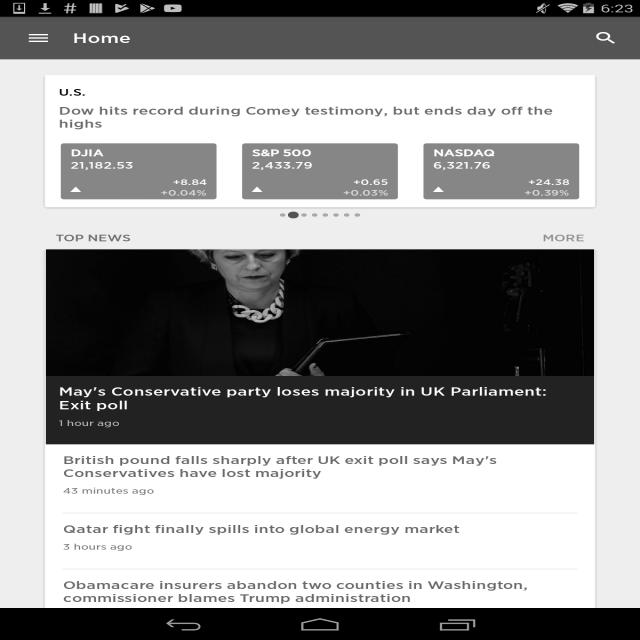ImageButton: (9, 19, 68, 57)
ImageView: (46, 249, 594, 376), (277, 212, 288, 218), (288, 212, 299, 218), (309, 212, 320, 218), (320, 212, 331, 218), (341, 212, 352, 218), (352, 212, 363, 218), (299, 212, 309, 218), (331, 212, 341, 218), (70, 187, 81, 192), (433, 187, 444, 192), (252, 187, 262, 192)
TextView: (59, 384, 581, 412), (63, 453, 577, 480), (63, 578, 577, 605), (59, 104, 581, 130), (63, 522, 460, 536), (55, 232, 320, 244), (320, 232, 585, 244), (580, 22, 632, 54), (72, 29, 130, 47), (63, 485, 154, 496), (70, 159, 134, 171), (63, 541, 132, 552), (252, 159, 313, 171), (433, 147, 494, 159), (252, 147, 311, 159), (433, 159, 491, 171), (59, 418, 120, 428), (160, 187, 207, 196), (528, 177, 570, 187), (524, 187, 570, 196), (70, 147, 104, 159), (343, 187, 388, 196), (353, 177, 388, 187), (173, 177, 207, 187), (59, 86, 86, 98)
